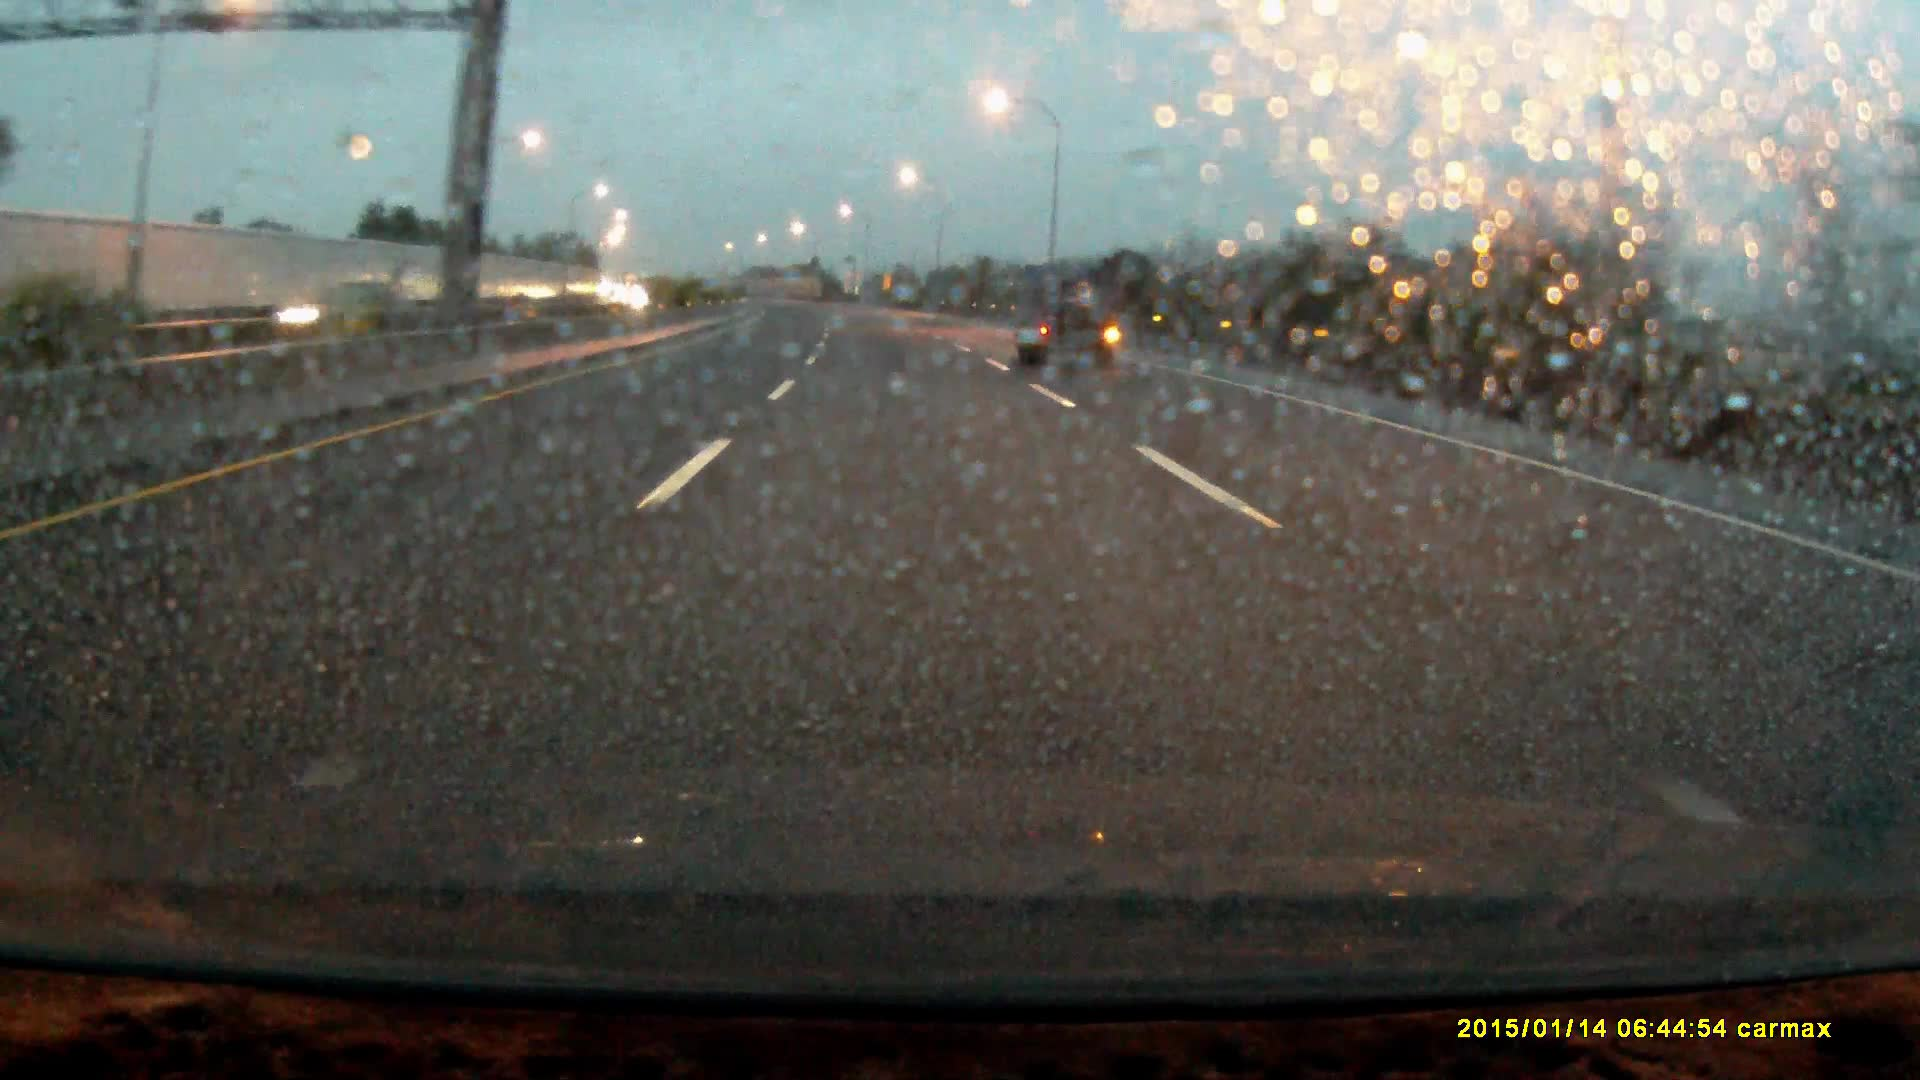vehicle: (181, 280, 343, 353), (1013, 274, 1114, 375), (588, 282, 655, 316)
